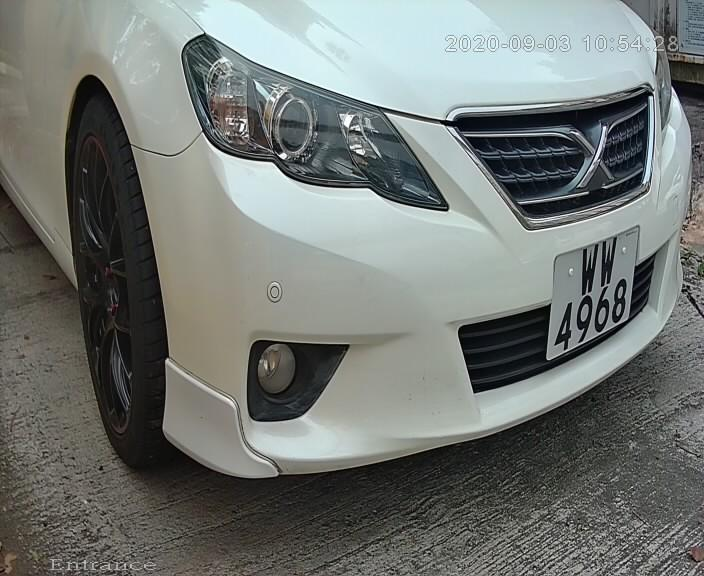License Plate: (547, 219, 642, 371)
